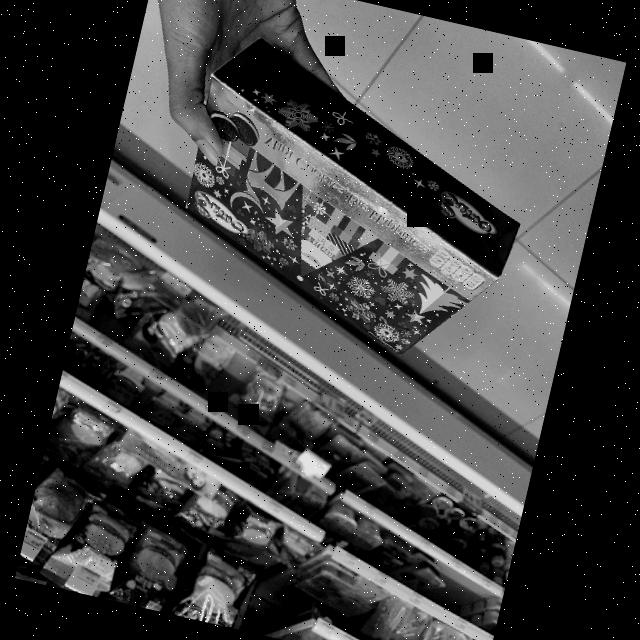cardboard_box: (150, 22, 548, 384)
